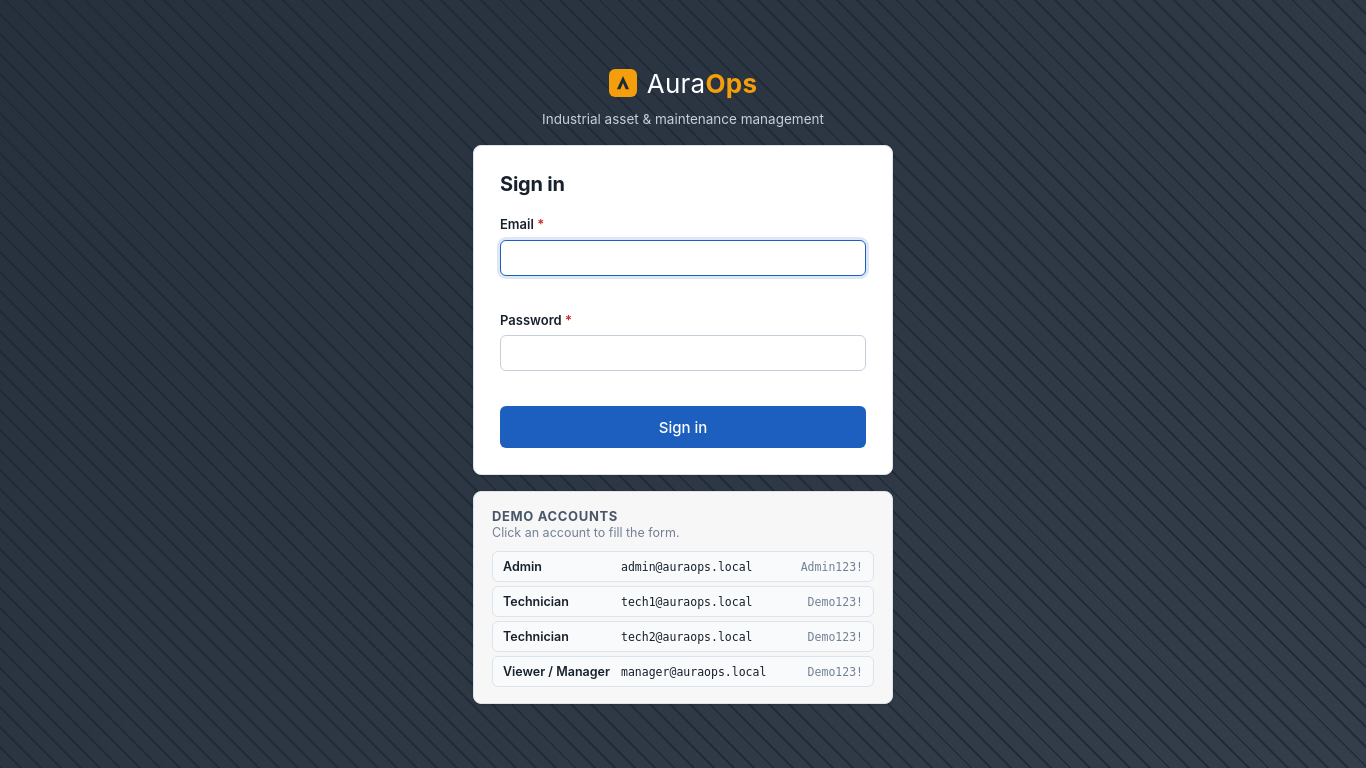
Test: LoginPage › signs in and routes technicians to My work
In the field labelled "Email *": (683, 258) 500,240 -> 866,276, type "tech1@auraops.local"
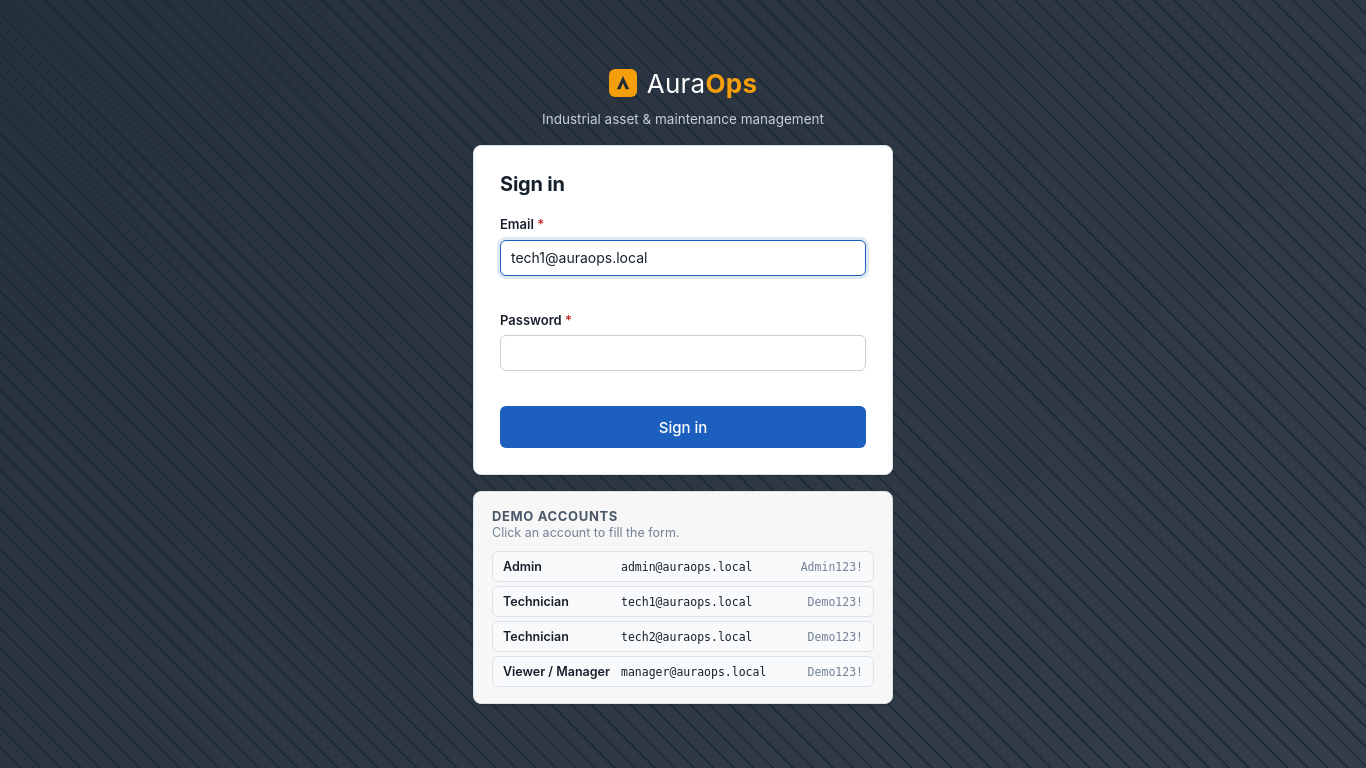
In the password field labelled "Password *": (683, 353) 500,335 -> 866,371, type "Demo123!"
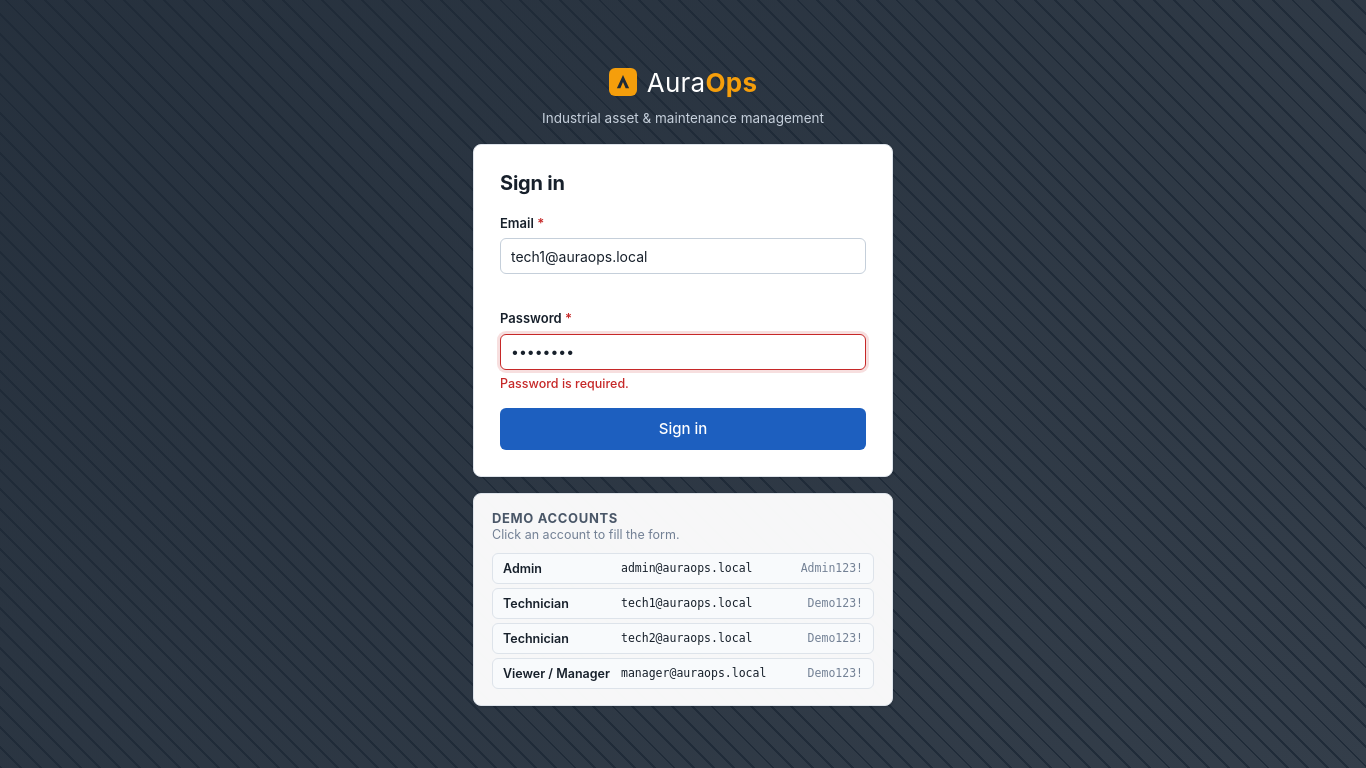
Click the button "Sign in": (683, 428) 500,408 -> 866,450
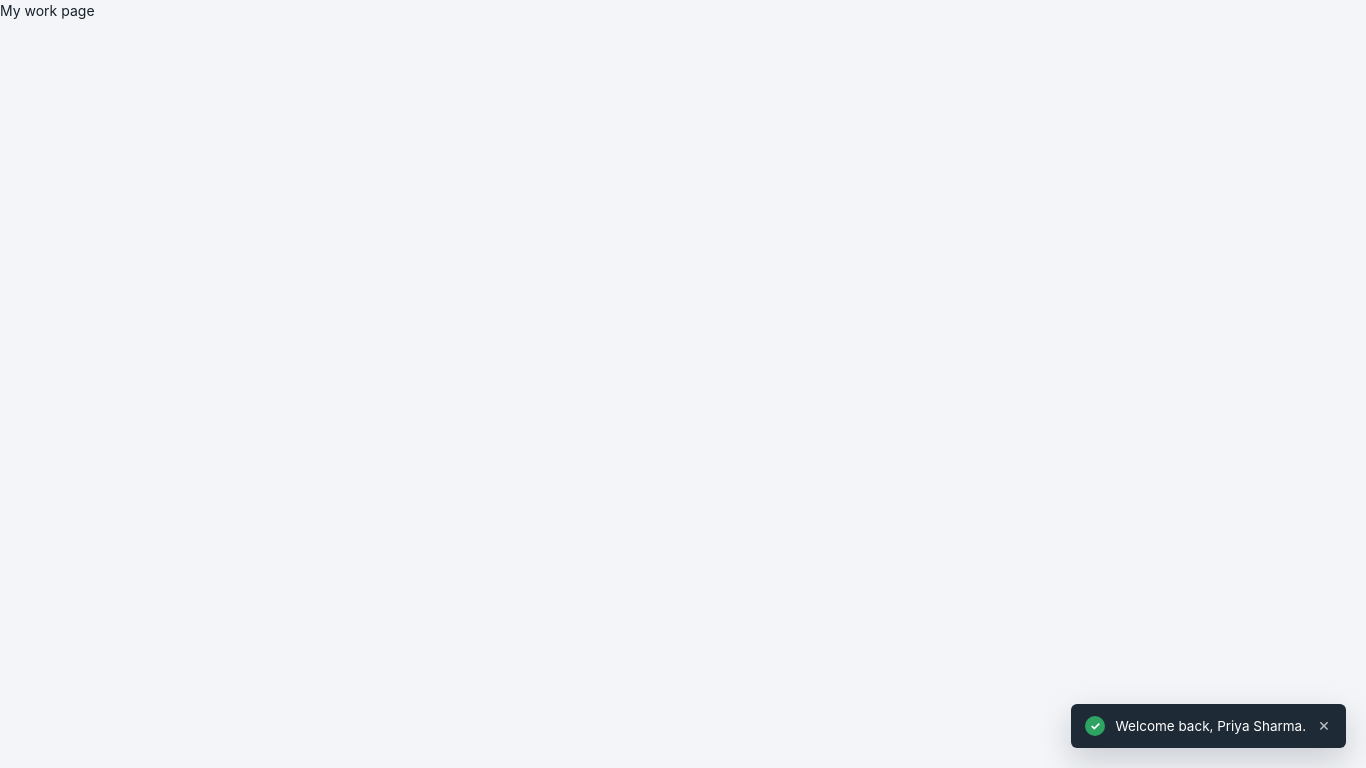
expect the text "My work page" is shown: met, box 0,2 -> 95,19
